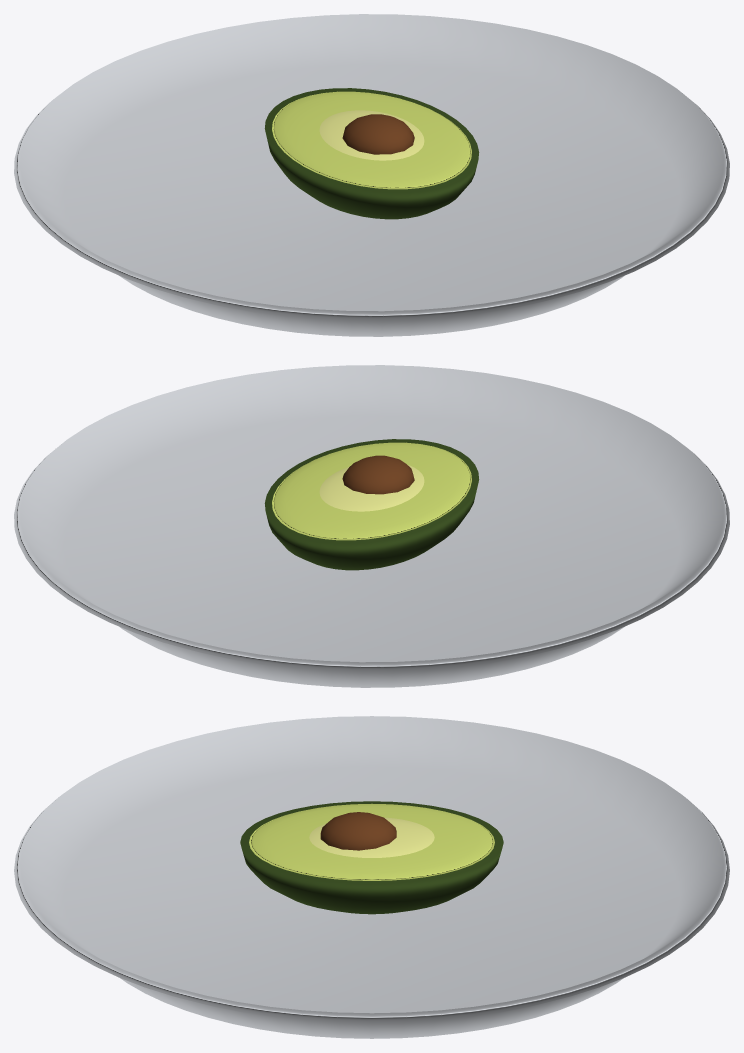
File: mezzogiorno-avocado.glb
The picture shows the model from 3 angles, top to bottom: view 1: azimuth 30°, elevation 25°; view 2: azimuth 150°, elevation 25°; view 3: azimuth 270°, elevation 25°; orthographic projection.
Bounding box in the file's own units: 0.22 × 0.0331 × 0.22.
